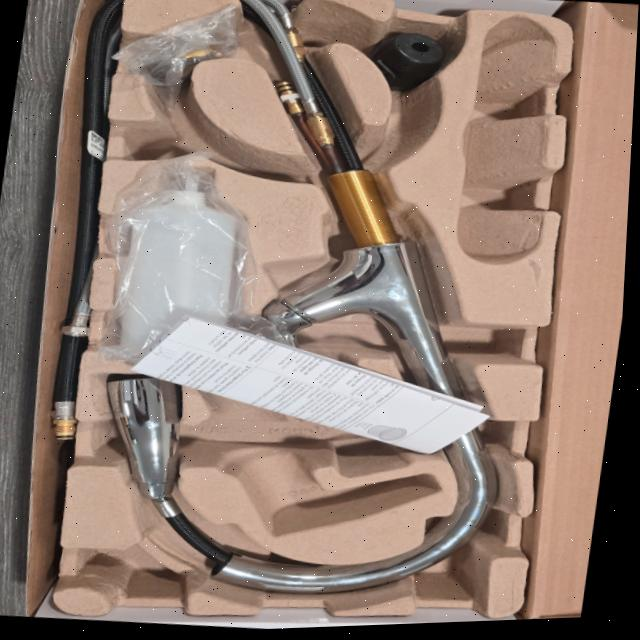1o: (107, 0, 501, 593)
2m: (196, 368, 442, 535)
3o: (113, 165, 244, 364)
4m: (454, 16, 554, 262)
5: (366, 29, 446, 90)
6: (114, 2, 237, 84)
7m: (128, 101, 267, 173)
8: (126, 312, 491, 453)
